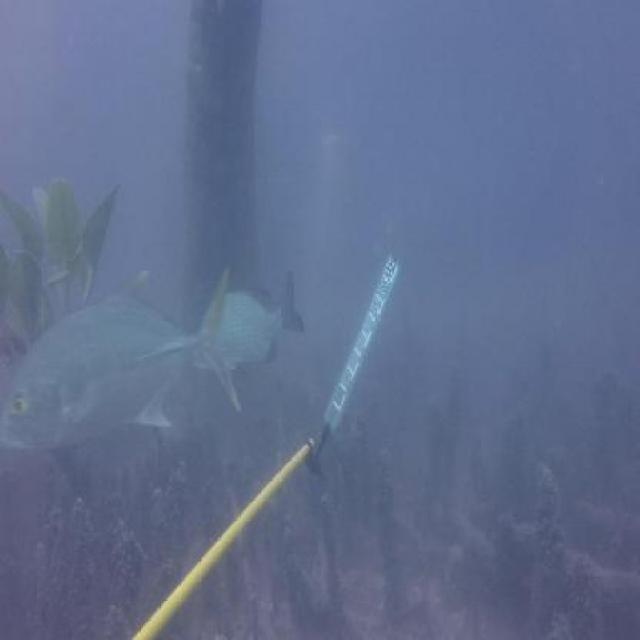Caranx: (0, 258, 246, 454)
acanthopagrus_palmaris: (210, 272, 308, 374)
